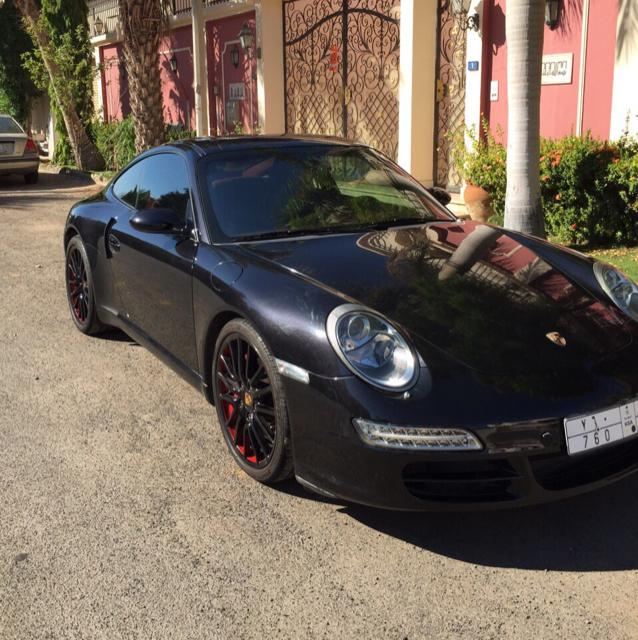porsche: (539, 327, 576, 352)
